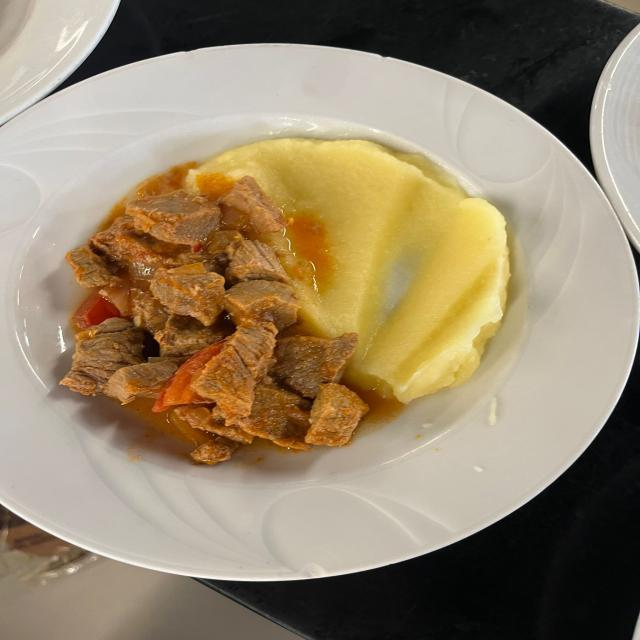ana_yemek: (4, 74, 550, 555)
